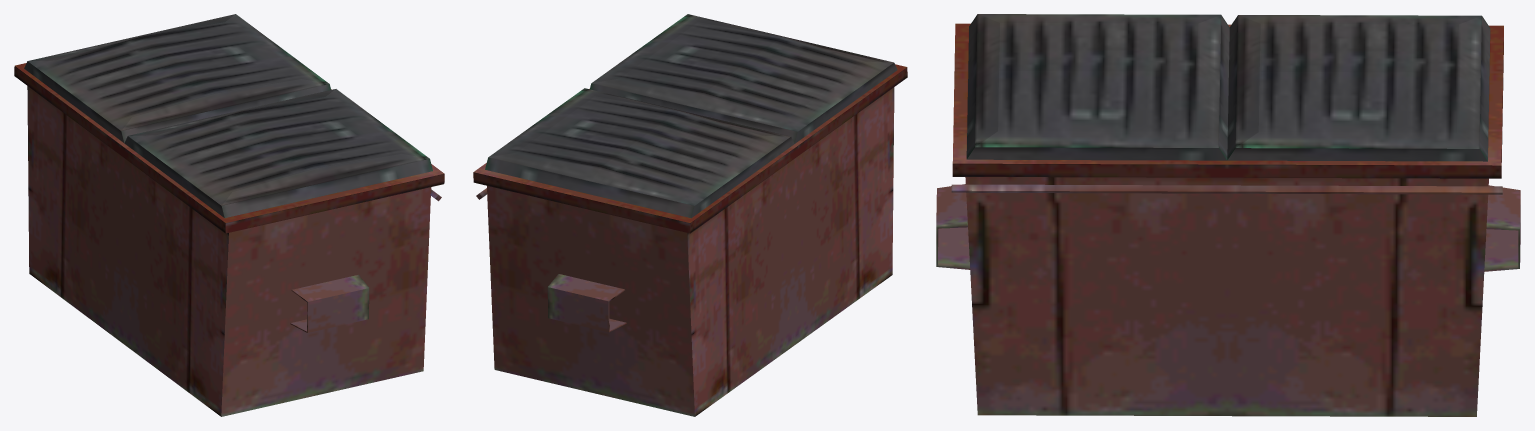
Rendered from Urban_DumpsterLidClosedRed_Model.fbx.
The picture shows the model from 3 angles, left to right: view 1: azimuth 30°, elevation 25°; view 2: azimuth 150°, elevation 25°; view 3: azimuth 270°, elevation 25°; orthographic projection. The views are drawn at different scales.
Visible parts, largest first — view 1: Urban_DumpsterLidClosedRed_Mesh; view 2: Urban_DumpsterLidClosedRed_Mesh; view 3: Urban_DumpsterLidClosedRed_Mesh.
Boxes of the visible parts, left/top/right/bottom form: Urban_DumpsterLidClosedRed_Mesh: left=14, top=14, right=444, bottom=416; Urban_DumpsterLidClosedRed_Mesh: left=473, top=14, right=907, bottom=416; Urban_DumpsterLidClosedRed_Mesh: left=936, top=14, right=1520, bottom=416.
Size of the model in its own units: 2.06 by 1.96 by 3.68.
